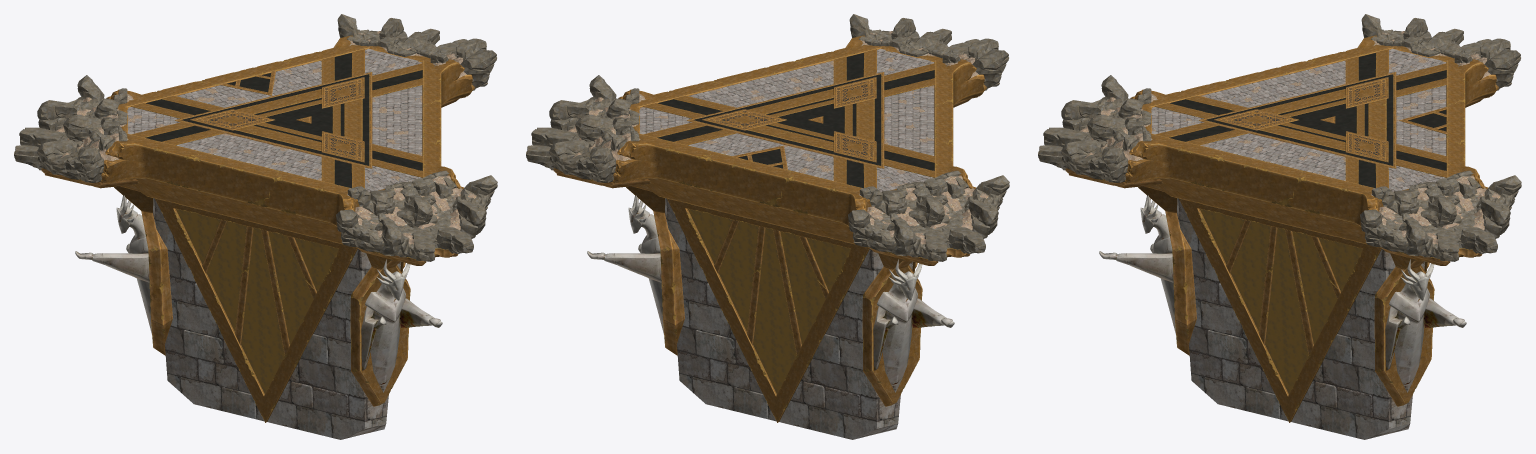
3 renders of one model, left to right at view 1: azimuth 30°, elevation 25°; view 2: azimuth 150°, elevation 25°; view 3: azimuth 270°, elevation 25°, orthographic.
Parts seen in each view (by area): view 1: SM_Dragons_Arena_01_LOD0; view 2: SM_Dragons_Arena_01_LOD0; view 3: SM_Dragons_Arena_01_LOD0.
Part boxes in pixels (x1,y1,x2,y2): SM_Dragons_Arena_01_LOD0: (14,14,497,439); SM_Dragons_Arena_01_LOD0: (526,14,1009,439); SM_Dragons_Arena_01_LOD0: (1038,14,1521,439).
Size of the model in its own units: 96.21 by 57.07 by 88.81.
Materials: 10 (9 with a texture image).
